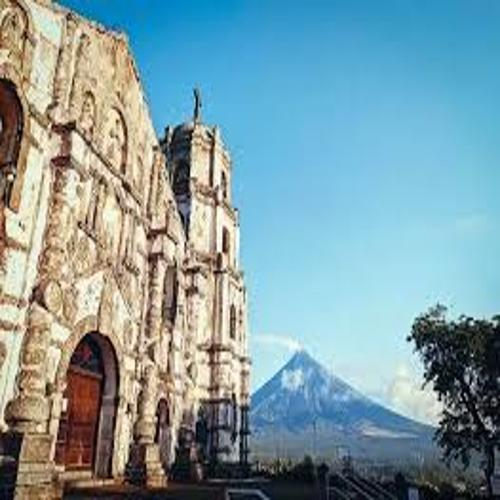Daraga Church: (4, 1, 251, 486)
